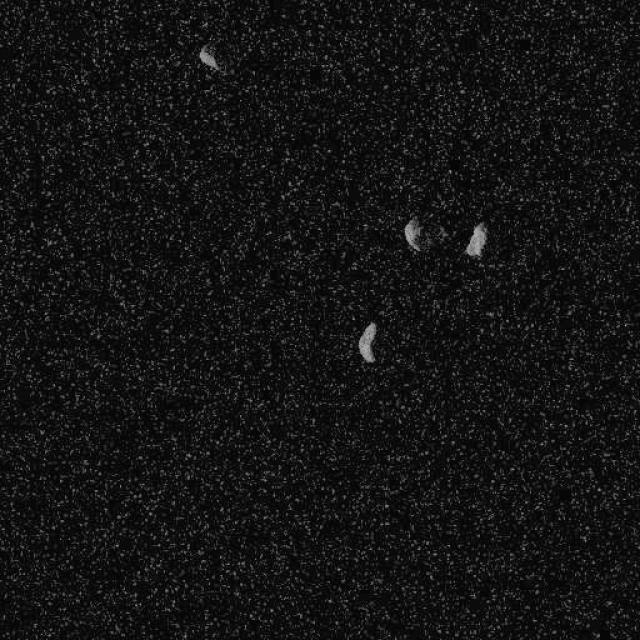D2: (462, 220, 488, 259), (357, 320, 378, 364), (402, 216, 423, 252), (198, 44, 220, 72)
